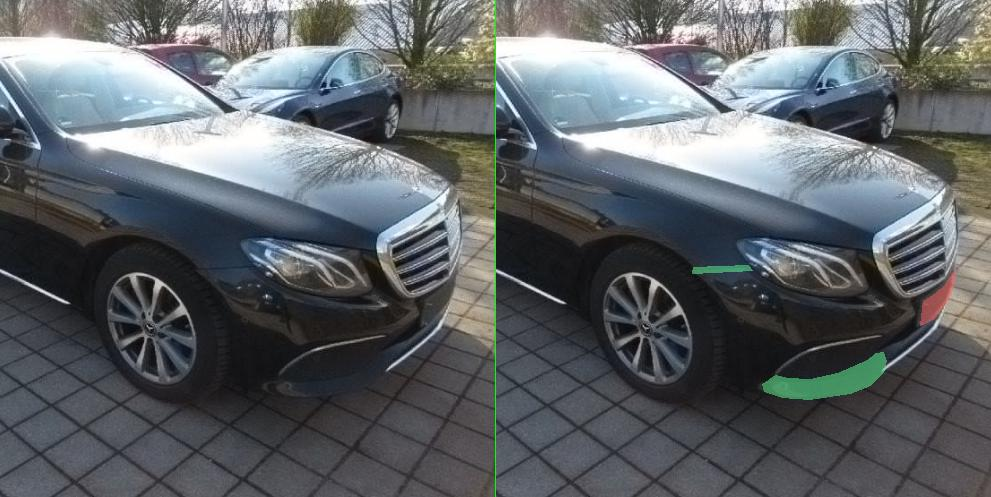Broken part: (533, 352, 781, 399), (392, 265, 513, 273)
Missing part: (849, 269, 919, 325)
